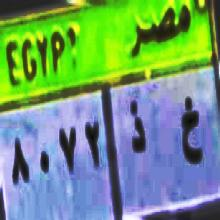0: (39, 134, 52, 190)
2: (85, 123, 101, 174)
7: (60, 120, 78, 182)
8: (10, 139, 30, 190)
khaa: (178, 90, 203, 167)
zaal: (127, 97, 148, 158)
